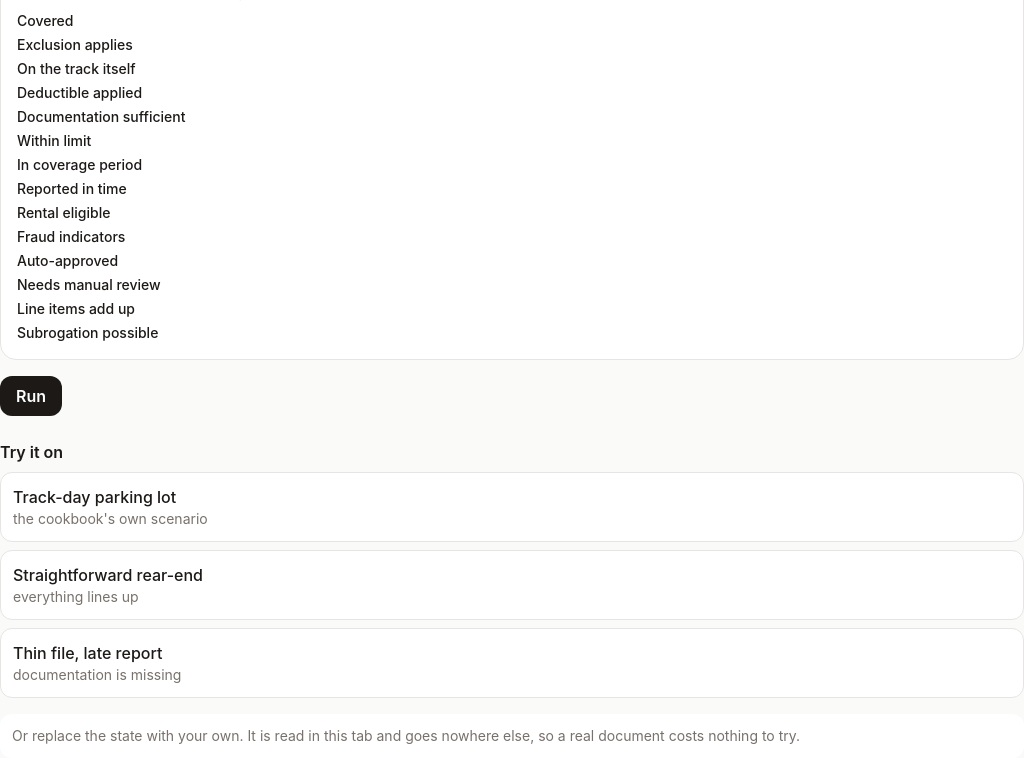
it: CookbookCard — Self-consistency: nouls › clears a failure banner from a previous sample when a new sample is picked
(page scrolled)
Step 1. Click the button "Run" → (31, 396), box left=0, top=376, right=62, bottom=416
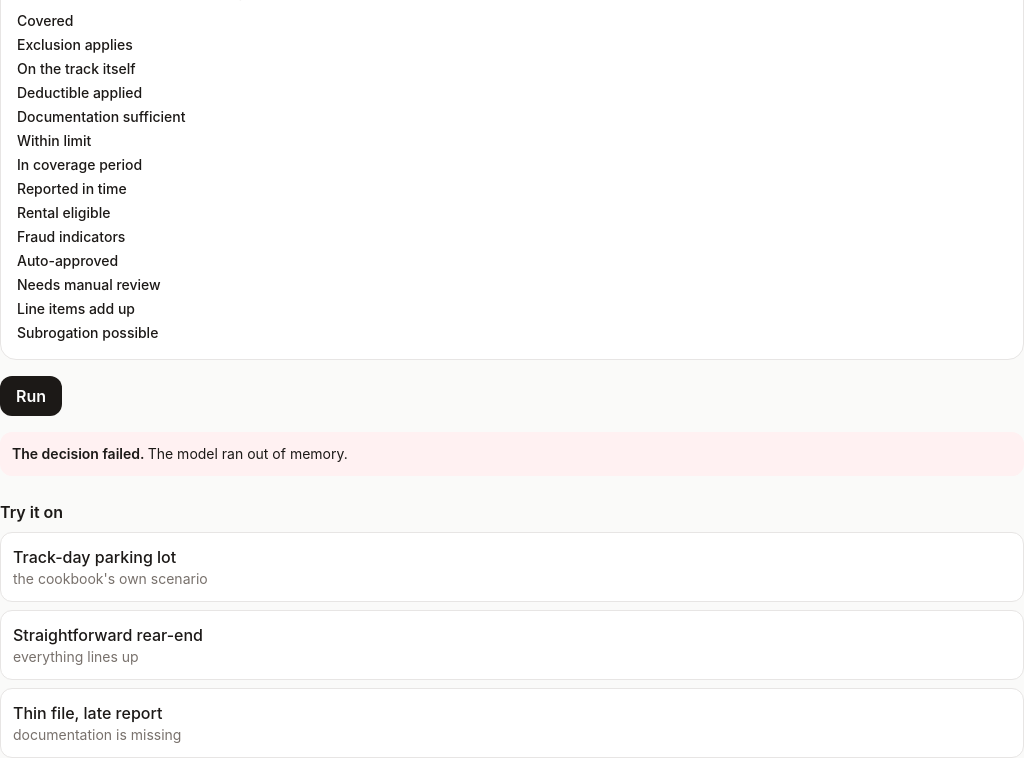
expect the text "The decision failed. The model ran out of memory." is shown: met, box left=0, top=432, right=1023, bottom=476
Step 2. Click the button "Straightforward rear-end everything lines up" → (108, 635), box left=0, top=610, right=1023, bottom=680
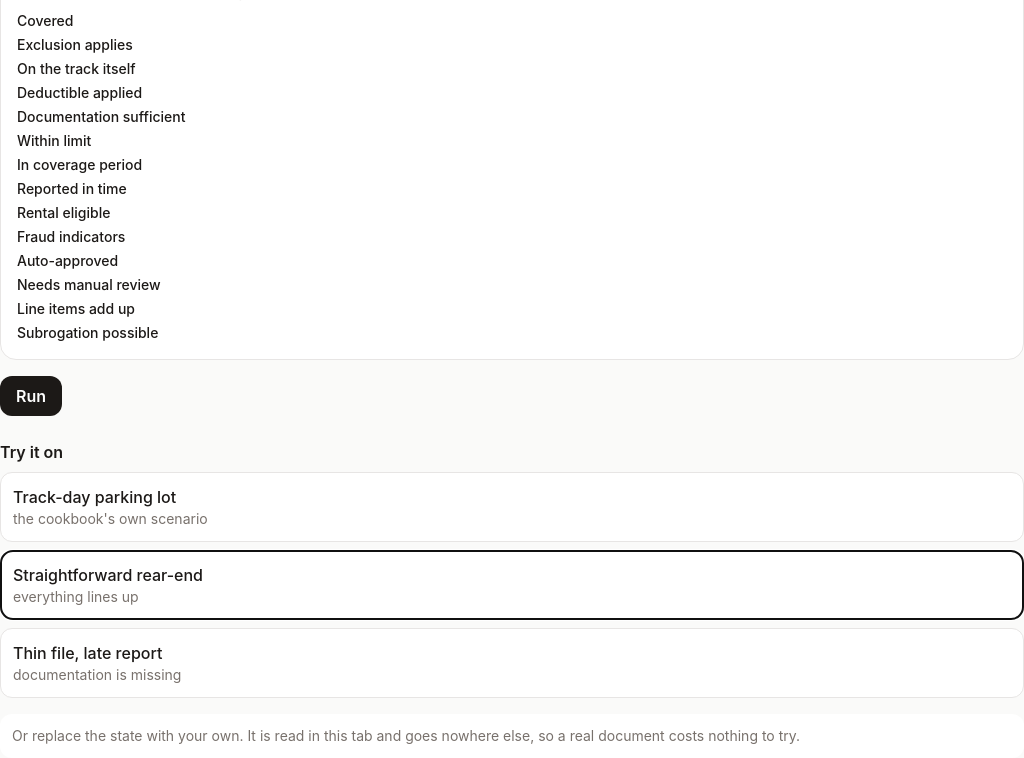
expect the text "ran out of memory" is gone: met
